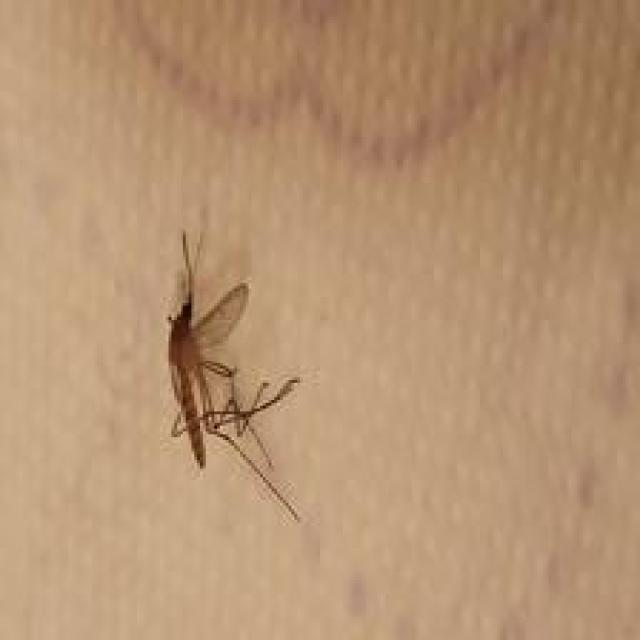Culex: (163, 228, 303, 523)
